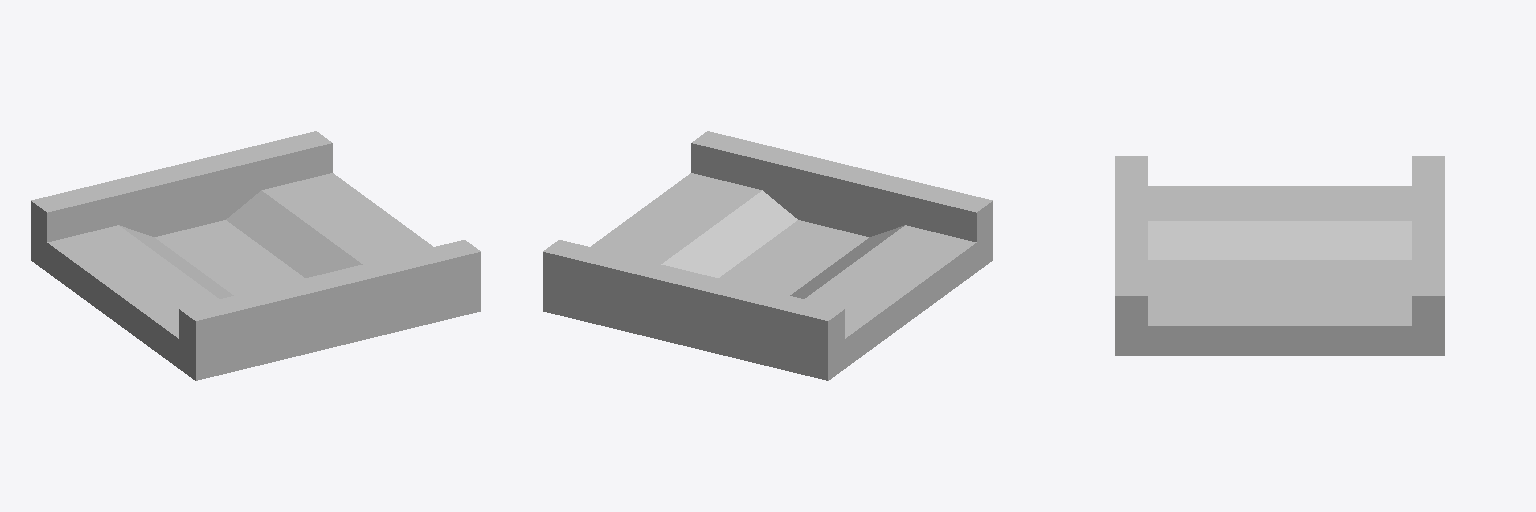
File: mditch.obj
3 renders of one model, left to right at view 1: azimuth 30°, elevation 25°; view 2: azimuth 150°, elevation 25°; view 3: azimuth 270°, elevation 25°, orthographic.
Parts seen in each view (by area): view 1: mditch; view 2: mditch; view 3: mditch.
Part boxes in pixels (x1,y1,x2,y2): mditch: (31,131,480,380); mditch: (543,131,992,380); mditch: (1115,156,1444,355).
Size of the model in its own units: 10 by 2 by 10.